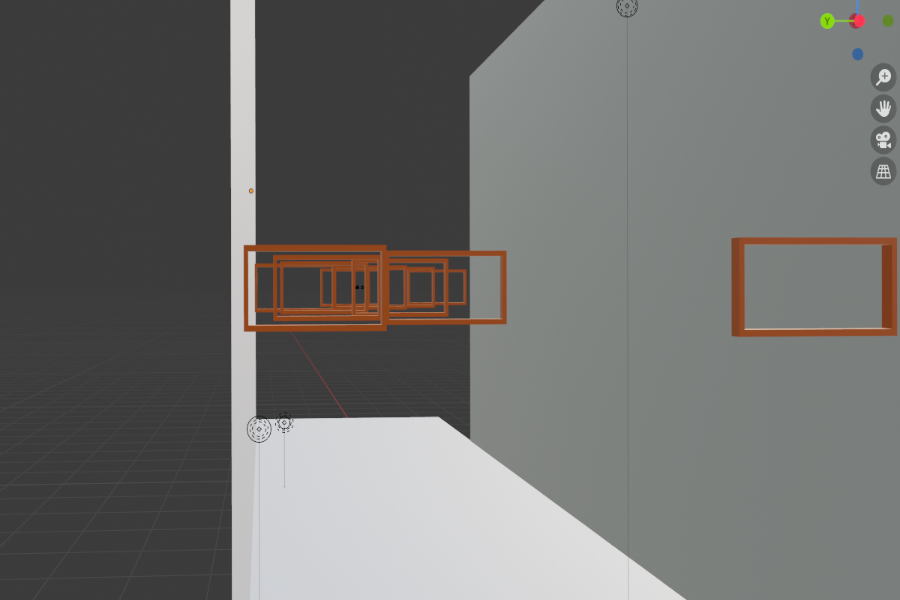GATE: (731, 231, 896, 342), (242, 244, 390, 332), (379, 249, 508, 324)
